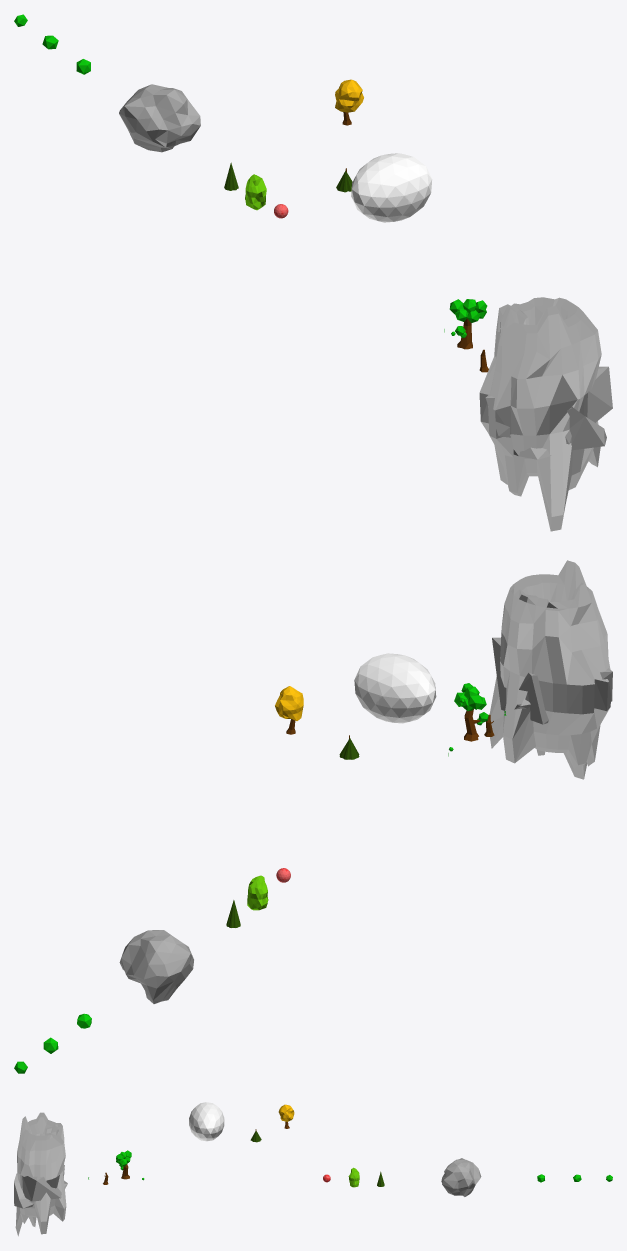
The model's file is BentoFBX.FBX.
3 renders of one model, top to bottom at view 1: azimuth 30°, elevation 25°; view 2: azimuth 150°, elevation 25°; view 3: azimuth 270°, elevation 25°, orthographic. The views are drawn at different scales.
Visible parts, largest first — view 1: Component_30_1, Component_31_1, Component_5_1, Component_28_1, Component_24_1, Component_3_1; view 2: Component_30_1, Component_31_1, Component_5_1, Component_28_1, Component_3_1; view 3: Component_30_1, Component_5_1, Component_31_1, Component_28_1, Component_24_1, Component_3_1.
Boxes of the visible parts, x1=… form: Component_30_1: x1=479, y1=297, x2=601, y2=531; Component_31_1: x1=351, y1=153, x2=432, y2=222; Component_5_1: x1=119, y1=84, x2=200, y2=152; Component_28_1: x1=485, y1=366, x2=612, y2=444; Component_24_1: x1=513, y1=405, x2=606, y2=459; Component_3_1: x1=335, y1=79, x2=363, y2=112; Component_30_1: x1=489, y1=560, x2=611, y2=779; Component_31_1: x1=354, y1=653, x2=436, y2=723; Component_5_1: x1=119, y1=930, x2=193, y2=1003; Component_28_1: x1=492, y1=637, x2=612, y2=724; Component_3_1: x1=275, y1=686, x2=303, y2=720; Component_30_1: x1=15, y1=1112, x2=66, y2=1236; Component_5_1: x1=441, y1=1158, x2=481, y2=1196; Component_31_1: x1=189, y1=1102, x2=224, y2=1141; Component_28_1: x1=22, y1=1165, x2=64, y2=1201; Component_24_1: x1=14, y1=1173, x2=67, y2=1208; Component_3_1: x1=278, y1=1104, x2=294, y2=1121.
Size of the model in its own units: 45.24 by 92.63 by 355.
